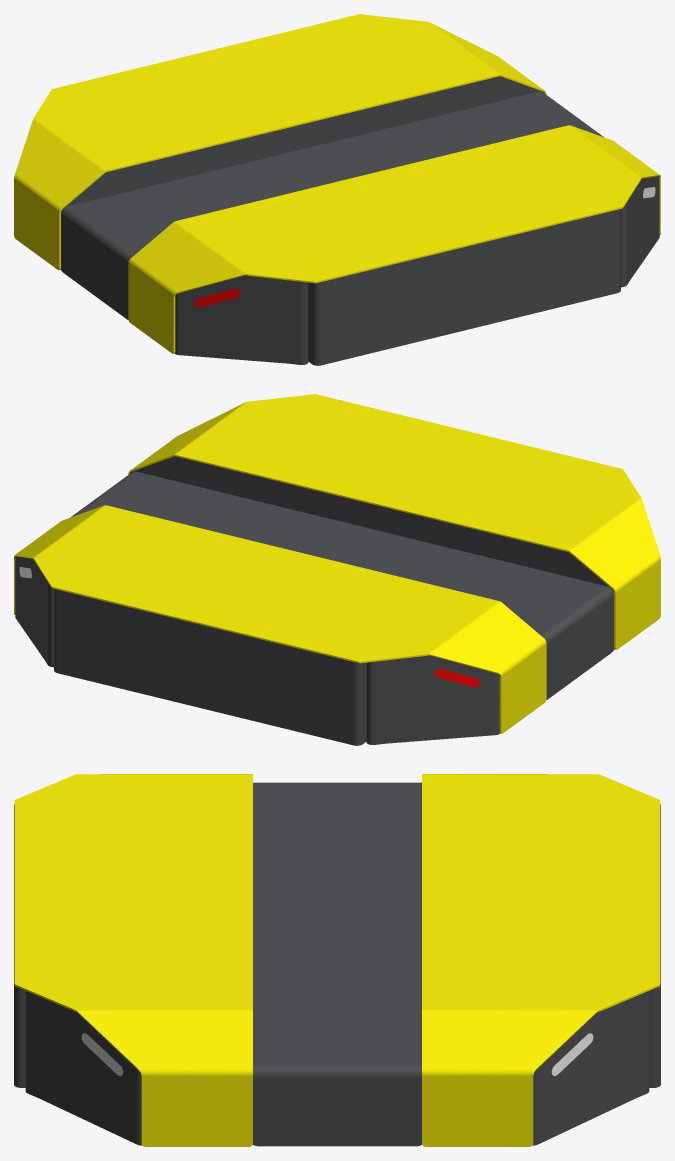
The model's file is diff_chassis.dae.
The picture shows the model from 3 angles, top to bottom: view 1: azimuth 30°, elevation 25°; view 2: azimuth 150°, elevation 25°; view 3: azimuth 270°, elevation 25°; orthographic projection. The views are drawn at different scales.
Visible parts, largest first — view 1: Dingo_Top_Level_-_Diff_000, Dingo_Top_Level_-_Diff_091, Dingo_Top_Level_-_Diff_034, Dingo_Top_Level_-_Diff_013, Dingo_Top_Level_-_Diff_032; view 2: Dingo_Top_Level_-_Diff_000, Dingo_Top_Level_-_Diff_091, Dingo_Top_Level_-_Diff_034, Dingo_Top_Level_-_Diff_013, Dingo_Top_Level_-_Diff_032; view 3: Dingo_Top_Level_-_Diff_000, Dingo_Top_Level_-_Diff_034, Dingo_Top_Level_-_Diff_013, Dingo_Top_Level_-_Diff_091, Dingo_Top_Level_-_Diff_032, Dingo_Top_Level_-_Diff_002.
Part boxes in pixels (box(x1,y1,x2,y2)): Dingo_Top_Level_-_Diff_000: box(14, 14, 660, 353); Dingo_Top_Level_-_Diff_091: box(308, 209, 620, 365); Dingo_Top_Level_-_Diff_034: box(61, 91, 604, 315); Dingo_Top_Level_-_Diff_013: box(175, 176, 659, 364); Dingo_Top_Level_-_Diff_032: box(60, 76, 544, 319); Dingo_Top_Level_-_Diff_000: box(14, 394, 660, 733); Dingo_Top_Level_-_Diff_091: box(54, 589, 366, 745); Dingo_Top_Level_-_Diff_034: box(70, 471, 613, 695); Dingo_Top_Level_-_Diff_013: box(15, 556, 499, 744); Dingo_Top_Level_-_Diff_032: box(130, 456, 614, 699); Dingo_Top_Level_-_Diff_000: box(14, 774, 660, 1146); Dingo_Top_Level_-_Diff_034: box(253, 782, 421, 1140); Dingo_Top_Level_-_Diff_013: box(25, 991, 649, 1145); Dingo_Top_Level_-_Diff_091: box(14, 804, 660, 1087); Dingo_Top_Level_-_Diff_032: box(253, 1137, 421, 1146); Dingo_Top_Level_-_Diff_002: box(81, 1033, 593, 1075).
Size of the model in its own units: 0.5512 by 0.5172 by 0.0963.
